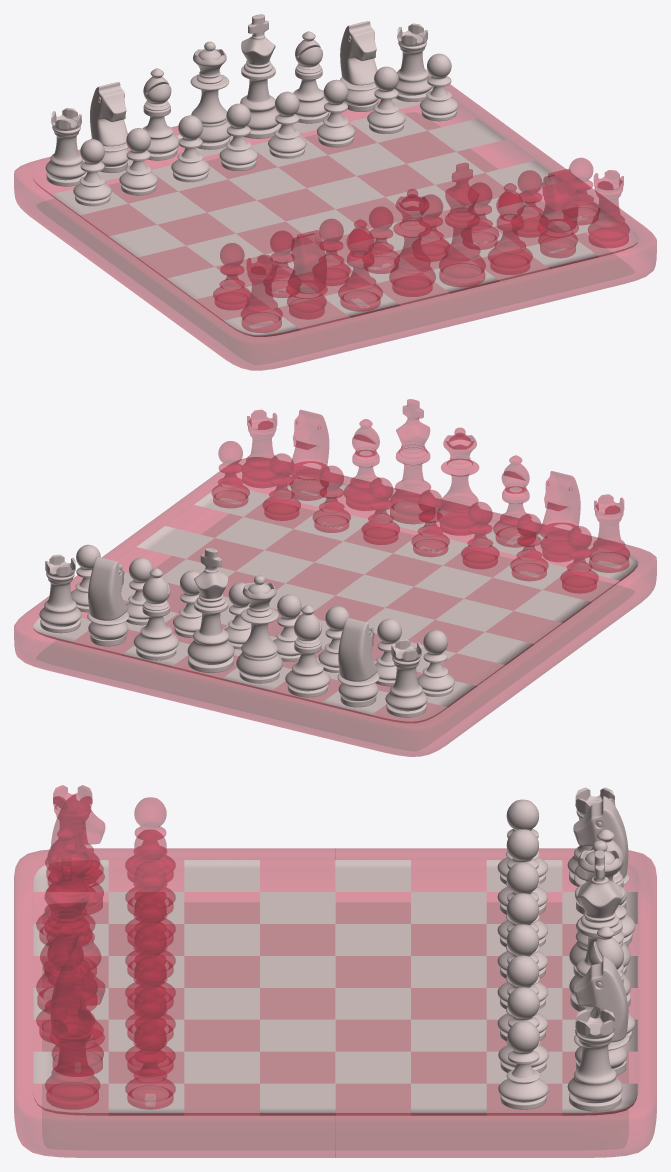
File: chess_board (3).glb
3 renders of one model, top to bottom at view 1: azimuth 30°, elevation 25°; view 2: azimuth 150°, elevation 25°; view 3: azimuth 270°, elevation 25°, orthographic. The views are drawn at different scales.
Parts seen in each view (by area): view 1: Object_19, Object_36, Object_35, Object_20, Object_7, Object_22, Object_33, Object_6, Object_4, Object_16, Object_21, Object_34 (+22 smaller); view 2: Object_19, Object_36, Object_7, Object_35, Object_6, Object_20, Object_33, Object_22, Object_4, Object_16, Object_5, Object_17 (+22 smaller); view 3: Object_19, Object_36, Object_33, Object_35, Object_15, Object_32, Object_20, Object_4, Object_7, Object_22, Object_34, Object_18 (+22 smaller).
Boxes of the visible parts, left/top/right/bottom form: Object_19: left=36, top=87, right=635, bottom=365; Object_36: left=14, top=74, right=656, bottom=370; Object_35: left=439, top=163, right=485, bottom=286; Object_20: left=389, top=189, right=435, bottom=296; Object_7: left=240, top=14, right=281, bottom=138; Object_22: left=286, top=230, right=327, bottom=319; Object_33: left=537, top=169, right=578, bottom=257; Object_6: left=190, top=41, right=230, bottom=149; Object_4: left=340, top=21, right=378, bottom=111; Object_16: left=90, top=82, right=128, bottom=173; Object_21: left=338, top=219, right=382, bottom=311; Object_34: left=488, top=183, right=532, bottom=274; Object_19: left=33, top=475, right=637, bottom=751; Object_36: left=14, top=457, right=656, bottom=756; Object_7: left=187, top=548, right=234, bottom=672; Object_35: left=390, top=399, right=435, bottom=523; Object_6: left=236, top=575, right=282, bottom=683; Object_20: left=437, top=428, right=482, bottom=535; Object_33: left=288, top=410, right=329, bottom=500; Object_22: left=540, top=471, right=580, bottom=561; Object_4: left=87, top=556, right=129, bottom=646; Object_16: left=337, top=617, right=379, bottom=707; Object_5: left=133, top=568, right=178, bottom=660; Object_17: left=285, top=605, right=330, bottom=697; Object_19: left=33, top=860, right=637, bottom=1150; Object_36: left=14, top=848, right=656, bottom=1157; Object_33: left=50, top=956, right=105, bottom=1076; Object_35: left=36, top=851, right=97, bottom=1012; Object_15: left=567, top=1009, right=622, bottom=1111; Object_32: left=45, top=1008, right=99, bottom=1109; Object_20: left=40, top=841, right=100, bottom=976; Object_4: left=573, top=956, right=629, bottom=1075; Object_7: left=569, top=850, right=630, bottom=1011; Object_22: left=50, top=795, right=105, bottom=915; Object_34: left=36, top=924, right=94, bottom=1043; Object_18: left=498, top=1021, right=548, bottom=1109.
Bounding box in the file's own units: 17.01 × 5.49 × 17.01.
